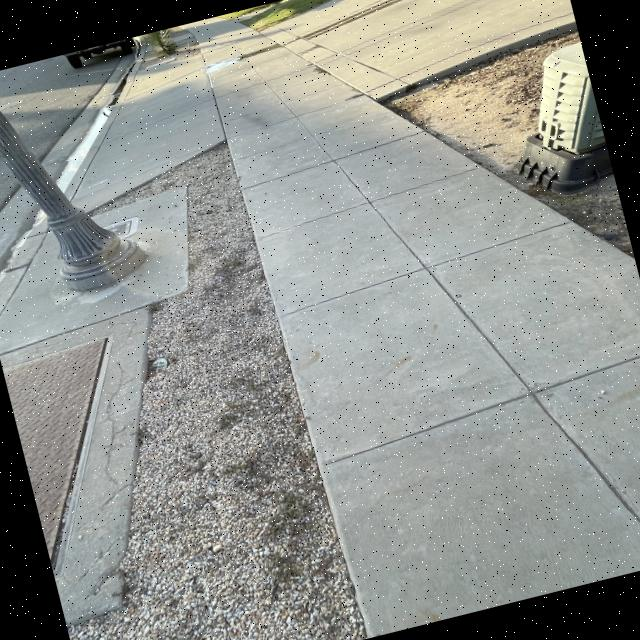curb: (30, 107, 131, 195), (77, 54, 157, 126), (0, 205, 64, 290)
road: (0, 39, 147, 138)
walkway: (278, 233, 628, 479), (317, 381, 640, 638), (251, 136, 489, 354), (216, 48, 376, 184), (198, 18, 308, 108)
walkway-edge: (202, 117, 386, 640), (375, 57, 528, 200), (493, 138, 635, 288), (234, 4, 288, 53)
